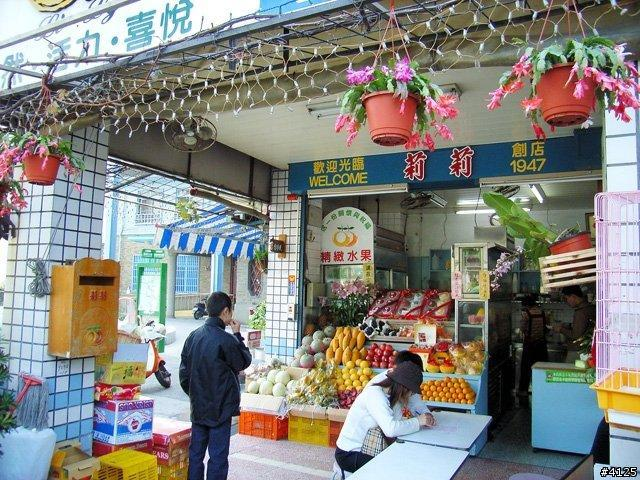apple: (323, 325, 368, 363), (425, 341, 456, 374), (363, 342, 397, 368)
